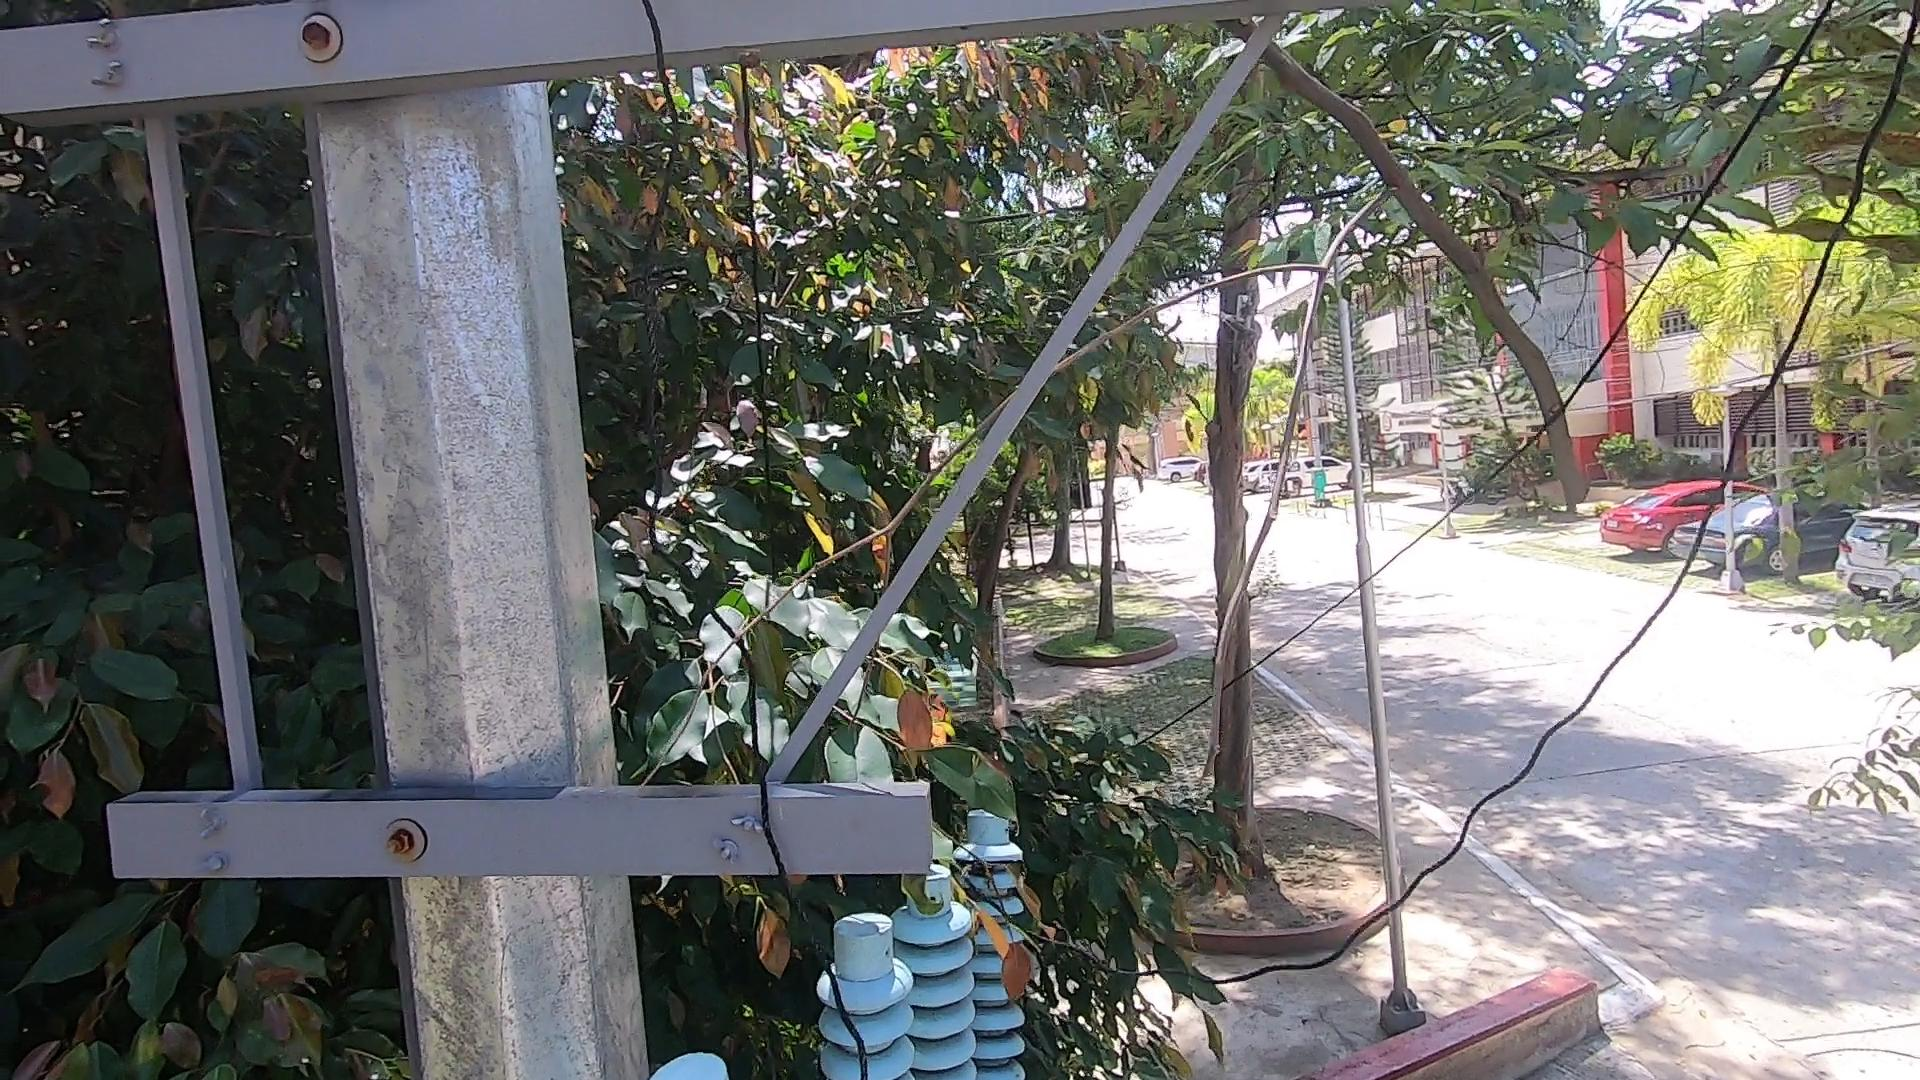tree branch: (644, 1, 1642, 789)
